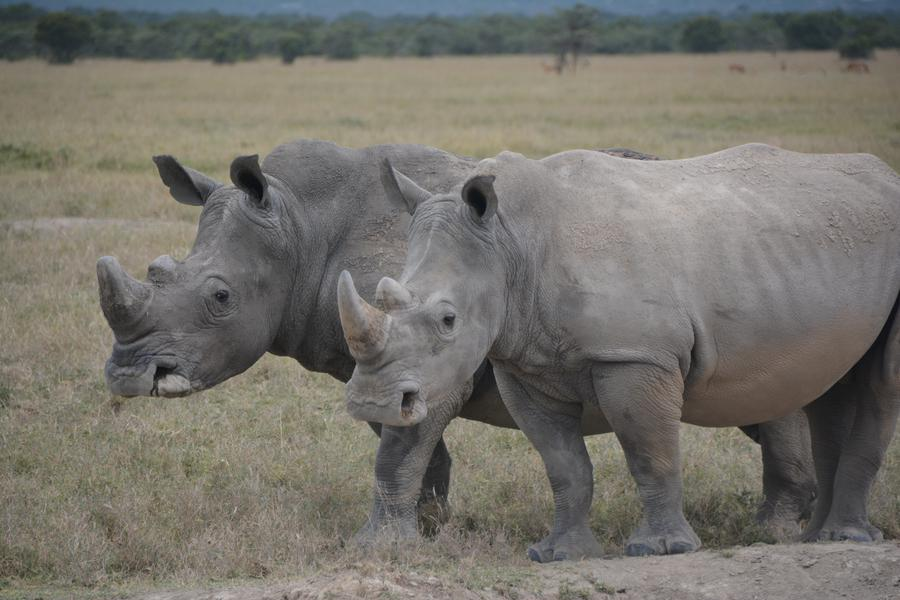rhino: (381, 156, 883, 512), (98, 140, 354, 390)
